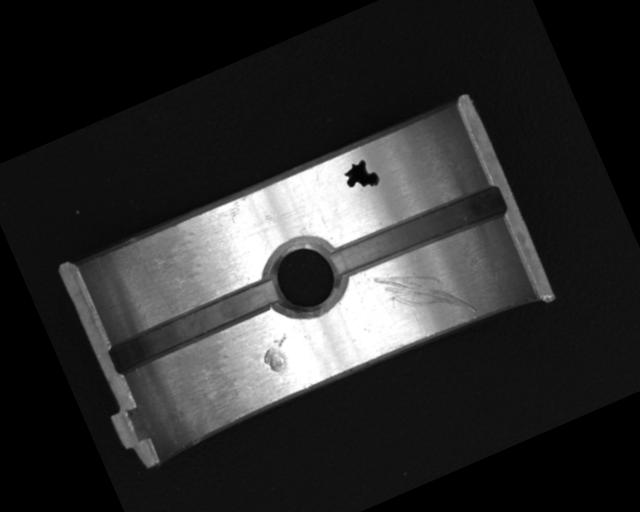blot: (339, 155, 382, 197)
bruise: (255, 332, 298, 376)
gap: (325, 180, 508, 286), (105, 277, 282, 376)
hole: (256, 227, 354, 326)
nick: (373, 245, 478, 344)
